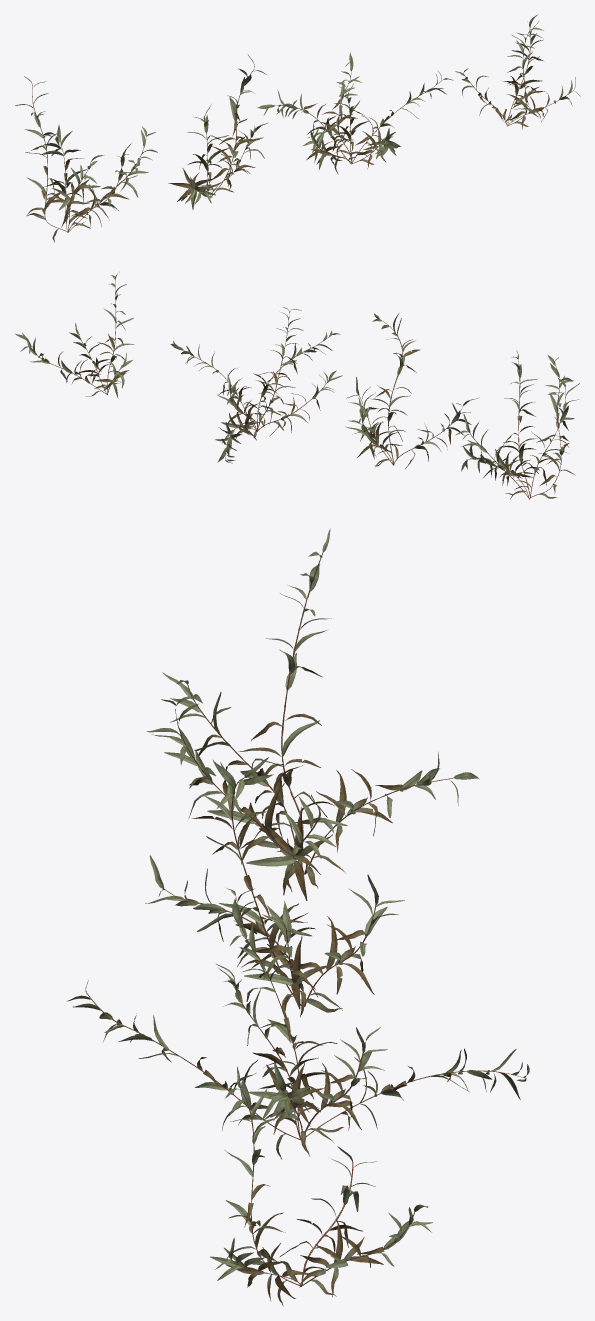
Rendered from shrub_02.glb.
3 views of the same model, one above another, from view 1: azimuth 30°, elevation 25°; view 2: azimuth 150°, elevation 25°; view 3: azimuth 270°, elevation 25° (orthographic). The views are drawn at different scales.
Parts seen in each view (by area): view 1: shrub_02_a; view 2: shrub_02_a; view 3: shrub_02_a.
Part boxes in pixels (x1=…): shrub_02_a: x1=15, y1=14, x2=580, y2=242; shrub_02_a: x1=14, y1=272, x2=579, y2=499; shrub_02_a: x1=67, y1=528, x2=529, y2=1305.
Size of the model in its own units: 6.05 by 1.7 by 2.29.
Materials: 1 (1 with a texture image).
